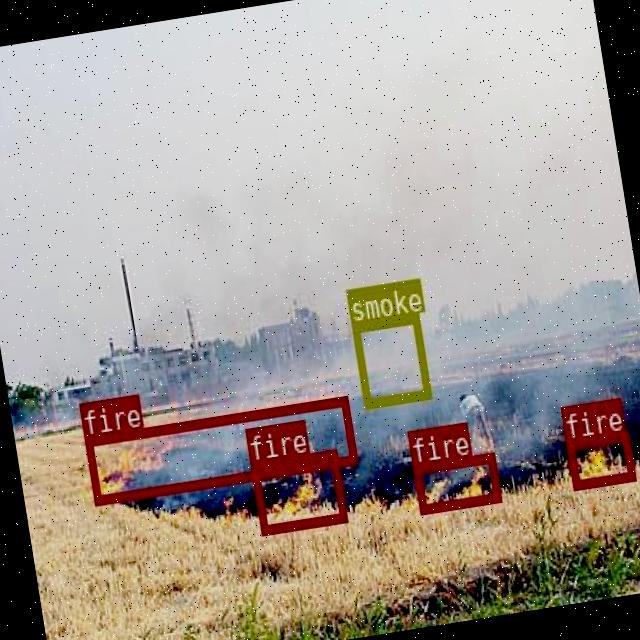fire: (83, 394, 356, 505), (250, 449, 345, 533), (412, 451, 500, 512), (565, 431, 634, 489)
smoke: (350, 312, 430, 408)
